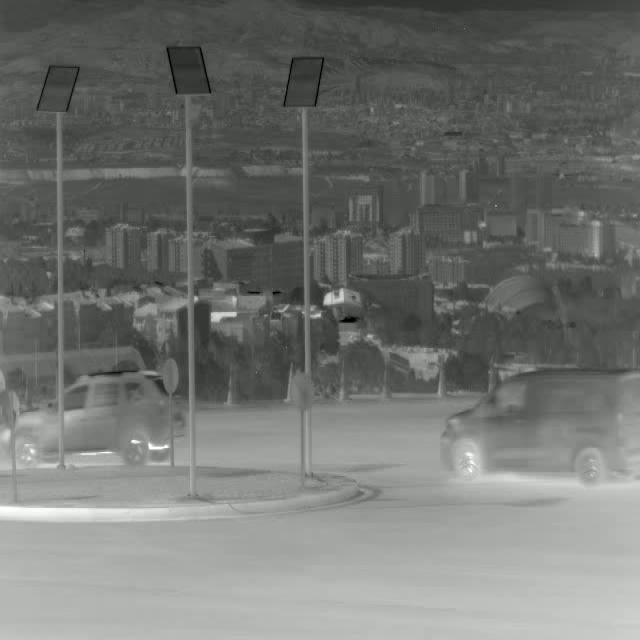Car: (438, 366, 640, 481), (3, 372, 185, 468)
